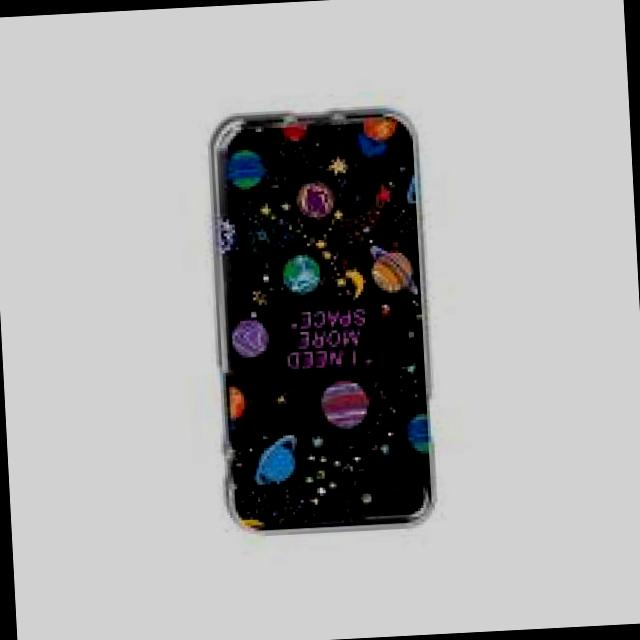lens_back: (380, 478, 424, 518)
phone: (196, 95, 446, 548)
